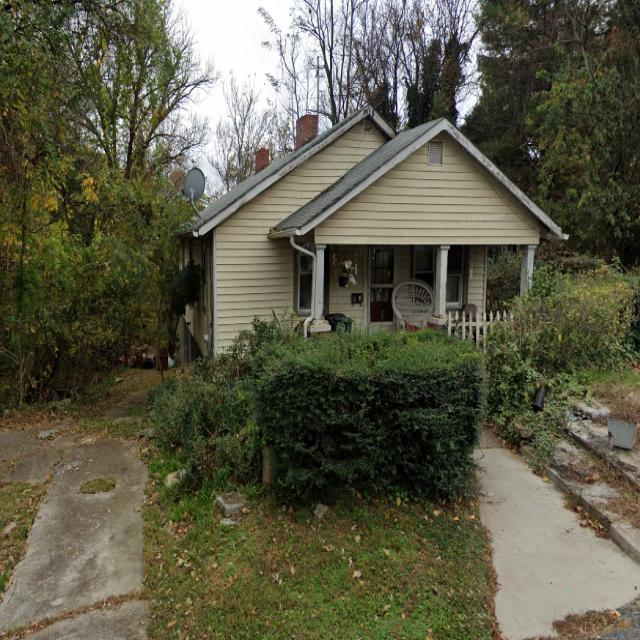House: (177, 105, 569, 362)
